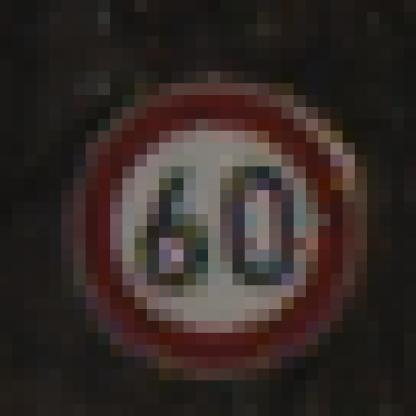Speed Limit 60: (80, 82, 350, 362)
